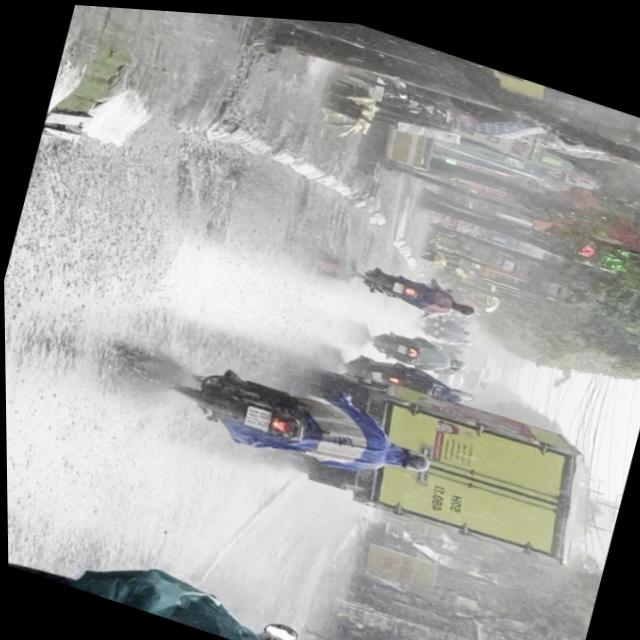helmet: (388, 438, 433, 472)
licenseplate: (158, 342, 442, 502)
nohelmet: (242, 399, 270, 427)
